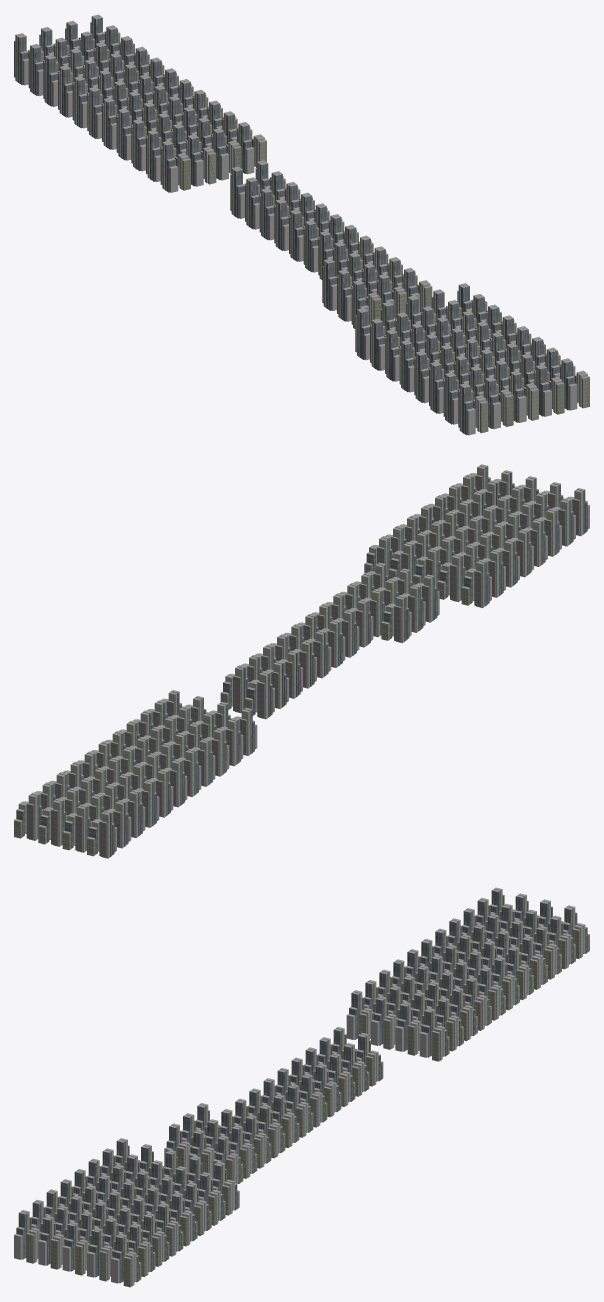
Rendered from map5.obj.
3 renders of one model, top to bottom at view 1: azimuth 30°, elevation 25°; view 2: azimuth 150°, elevation 25°; view 3: azimuth 330°, elevation 25°, orthographic. The views are drawn at different scales.
Visible parts, largest first — view 1: batiments.275_Cube.1242_Cube.047, batiments.447_Cube.1242_Cube.047, batiments.011_Cube.1242_Cube.047, batiments.095_Cube.1242_Cube.047, batiments.777_Cube.1242_Cube.047, batiments.475_Cube.1242_Cube.047, batiments.303_Cube.1242_Cube.047, batiments.119_Cube.1242_Cube.047, batiments.768_Cube.1242_Cube.047, batiments.627_Cube.1242_Cube.047, batiments.778_Cube.1242_Cube.047, batiments.897_Cube.1242_Cube.047 (+25 smaller); view 2: batiments.626_Cube.1242_Cube.047, batiments.851_Cube.1242_Cube.047, batiments.129_Cube.1242_Cube.047, batiments.1068_Cube.1242_Cube.047, batiments.481_Cube.1242_Cube.047, batiments.309_Cube.1242_Cube.047, batiments.017_Cube.1242_Cube.047, batiments.810_Cube.1242_Cube.047, batiments.367_Cube.1242_Cube.047, batiments.238_Cube.1242_Cube.047, batiments.276_Cube.1242_Cube.047, batiments.1085_Cube.1242_Cube.047 (+27 smaller); view 3: batiments.768_Cube.1242_Cube.047, batiments.475_Cube.1242_Cube.047, batiments.303_Cube.1242_Cube.047, batiments.777_Cube.1242_Cube.047, batiments.447_Cube.1242_Cube.047, batiments.095_Cube.1242_Cube.047, batiments.119_Cube.1242_Cube.047, batiments.011_Cube.1242_Cube.047, batiments.275_Cube.1242_Cube.047, batiments.146_Cube.1242_Cube.047, batiments.458_Cube.1242_Cube.047, batiments.354_Cube.1242_Cube.047 (+27 smaller).
Boxes of the visible parts, left/top/right/bottom form: batiments.275_Cube.1242_Cube.047: left=160, top=140, right=190, bottom=192; batiments.447_Cube.1242_Cube.047: left=458, top=383, right=488, bottom=435; batiments.011_Cube.1242_Cube.047: left=534, top=364, right=564, bottom=416; batiments.095_Cube.1242_Cube.047: left=483, top=377, right=513, bottom=429; batiments.777_Cube.1242_Cube.047: left=186, top=134, right=216, bottom=186; batiments.475_Cube.1242_Cube.047: left=560, top=358, right=589, bottom=410; batiments.303_Cube.1242_Cube.047: left=509, top=370, right=538, bottom=422; batiments.119_Cube.1242_Cube.047: left=211, top=128, right=241, bottom=180; batiments.768_Cube.1242_Cube.047: left=237, top=122, right=266, bottom=174; batiments.627_Cube.1242_Cube.047: left=351, top=280, right=381, bottom=328; batiments.778_Cube.1242_Cube.047: left=28, top=44, right=58, bottom=96; batiments.897_Cube.1242_Cube.047: left=259, top=188, right=289, bottom=240; batiments.626_Cube.1242_Cube.047: left=381, top=595, right=411, bottom=643; batiments.851_Cube.1242_Cube.047: left=461, top=559, right=491, bottom=607; batiments.129_Cube.1242_Cube.047: left=87, top=810, right=116, bottom=858; batiments.1068_Cube.1242_Cube.047: left=244, top=671, right=274, bottom=719; batiments.481_Cube.1242_Cube.047: left=62, top=804, right=91, bottom=852; batiments.309_Cube.1242_Cube.047: left=14, top=792, right=42, bottom=840; batiments.017_Cube.1242_Cube.047: left=38, top=798, right=67, bottom=846; batiments.810_Cube.1242_Cube.047: left=437, top=554, right=466, bottom=601; batiments.367_Cube.1242_Cube.047: left=220, top=665, right=249, bottom=713; batiments.238_Cube.1242_Cube.047: left=401, top=584, right=425, bottom=632; batiments.276_Cube.1242_Cube.047: left=121, top=790, right=145, bottom=837; batiments.1085_Cube.1242_Cube.047: left=307, top=630, right=331, bottom=678; batiments.768_Cube.1242_Cube.047: left=419, top=1008, right=449, bottom=1061; batiments.475_Cube.1242_Cube.047: left=111, top=1233, right=141, bottom=1287; batiments.303_Cube.1242_Cube.047: left=62, top=1221, right=90, bottom=1275; batiments.777_Cube.1242_Cube.047: left=371, top=996, right=398, bottom=1049; batiments.447_Cube.1242_Cube.047: left=14, top=1210, right=41, bottom=1263; batiments.095_Cube.1242_Cube.047: left=38, top=1216, right=66, bottom=1269; batiments.119_Cube.1242_Cube.047: left=395, top=1002, right=423, bottom=1055; batiments.011_Cube.1242_Cube.047: left=87, top=1228, right=114, bottom=1281; batiments.275_Cube.1242_Cube.047: left=346, top=990, right=374, bottom=1039; batiments.146_Cube.1242_Cube.047: left=230, top=1125, right=257, bottom=1178; batiments.458_Cube.1242_Cube.047: left=272, top=1094, right=299, bottom=1147; batiments.354_Cube.1242_Cube.047: left=244, top=1115, right=271, bottom=1168.
Bounding box in the file's own units: 17.15 × 6.17 × 117.
20 materials, 10 textured.
